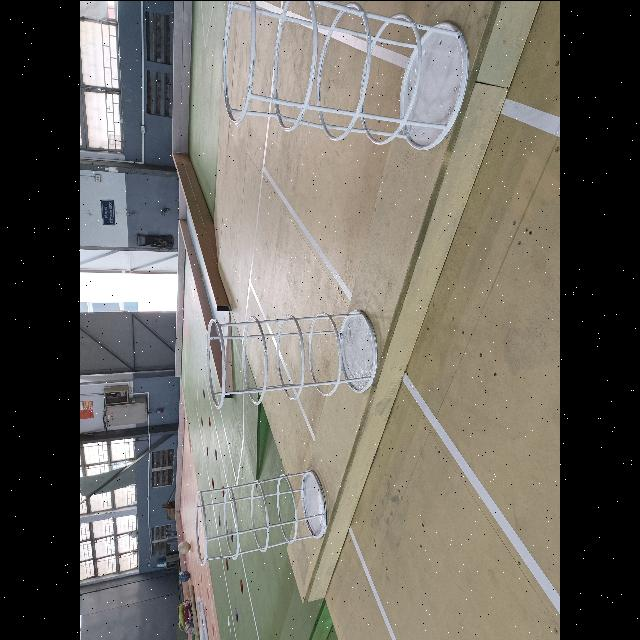S: (224, 0, 470, 150), (206, 310, 378, 410), (195, 468, 327, 564)
